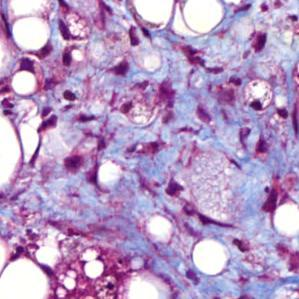steatosis: (7, 14, 52, 49), (192, 237, 231, 277)
